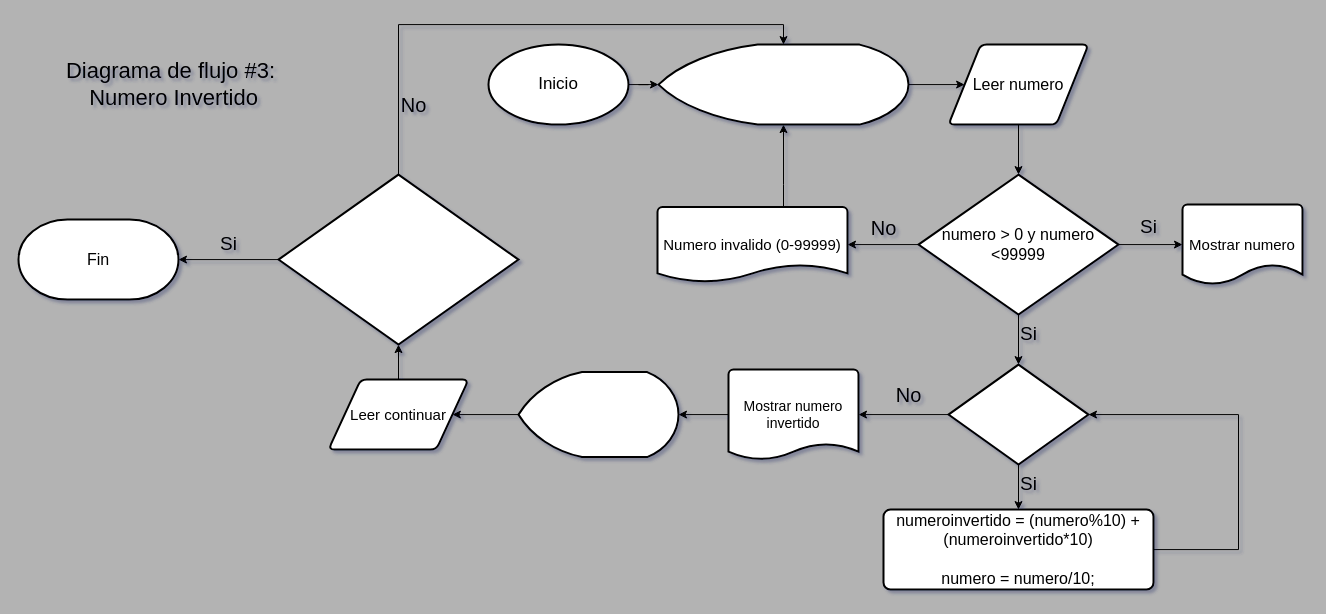
Image size: 1326x614. Some labels were removed from this diagram. Each missing label, with the box of its shape:
continuar = n o continuar = N: (277, 173, 519, 345)
Introduce un numero (0-99999):: (657, 43, 909, 125)
numero > 0: (947, 363, 1089, 465)
¿Continuar? (s/n):: (517, 371, 679, 458)
